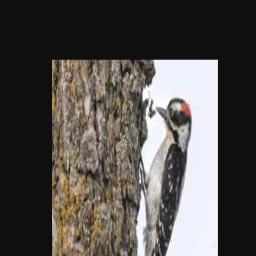Woodpecker: (139, 98, 192, 256)
